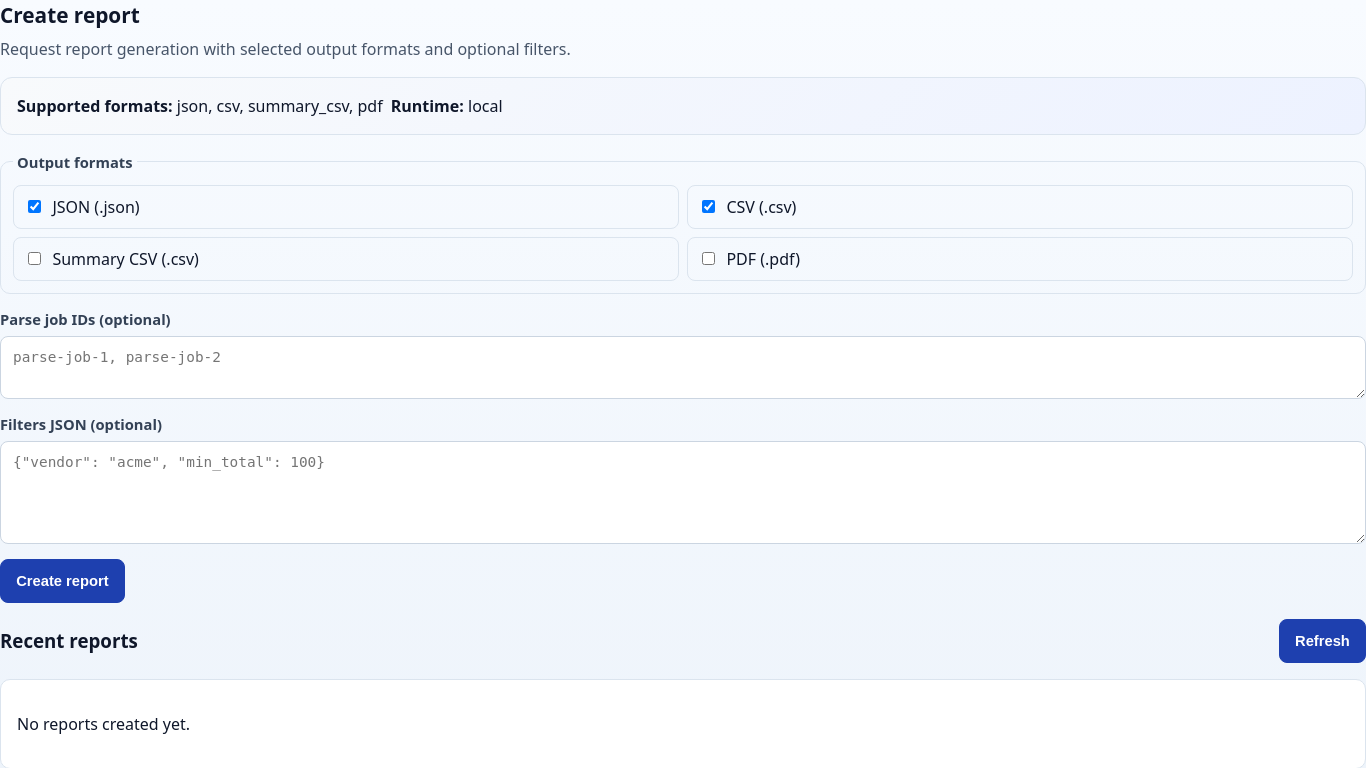
Test: ReportCreationScreen › shows API error details when report creation fails
This screenshot has width=1366, height=768.
Expected: the text "No reports created yet." is shown, left=17, top=713, right=190, bottom=735
What coordinates should you click on to do the following:
click the button "Create report"
I would click on:
 (62, 581)
Its box is left=0, top=559, right=125, bottom=603.
(page scrolled)
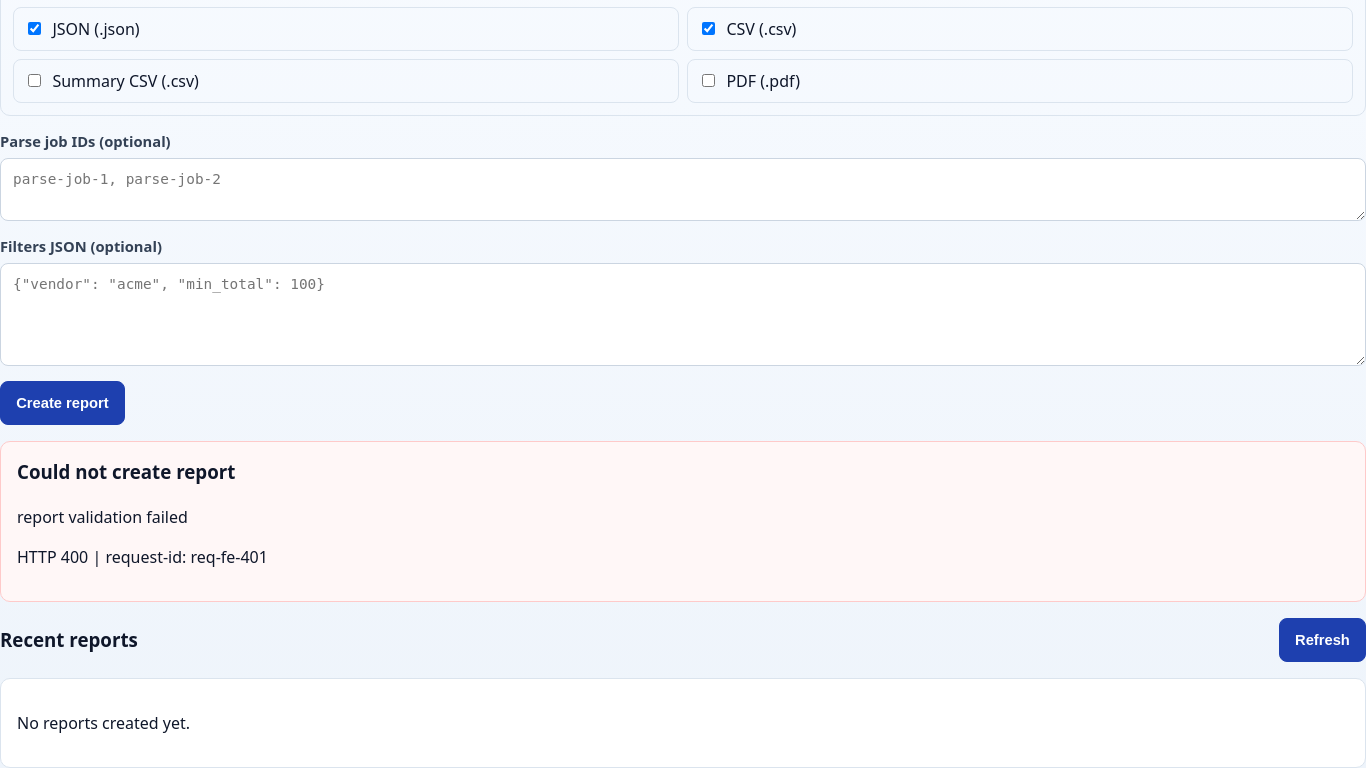
Result: the message shows "report validation failed" at left=17, top=506, right=188, bottom=528
Result: the message shows "request-id: req-fe-401" at left=88, top=546, right=268, bottom=568
